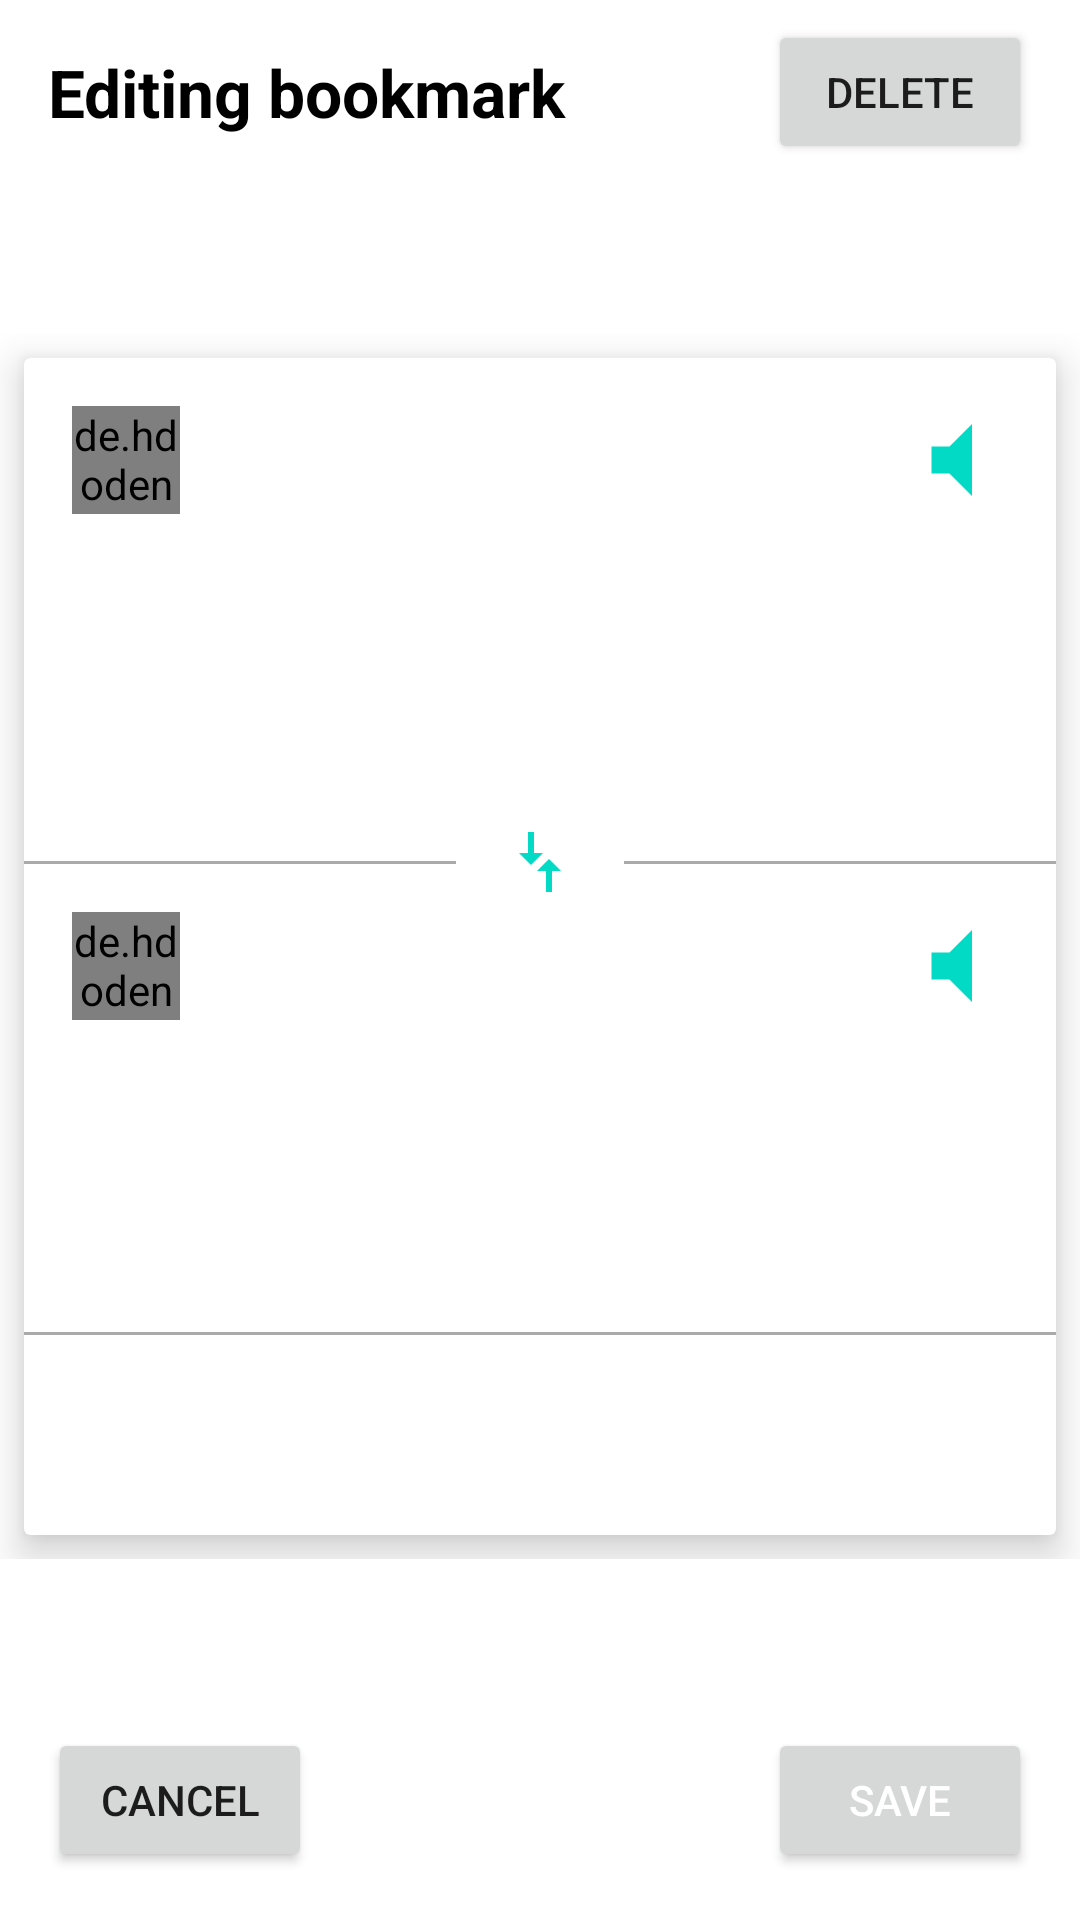

Icons on this 1080 x 1920 Android screen, each with its box as [x1, y1, x2, y2]:
Sound button: [931, 424, 972, 496], [931, 930, 972, 1002]
